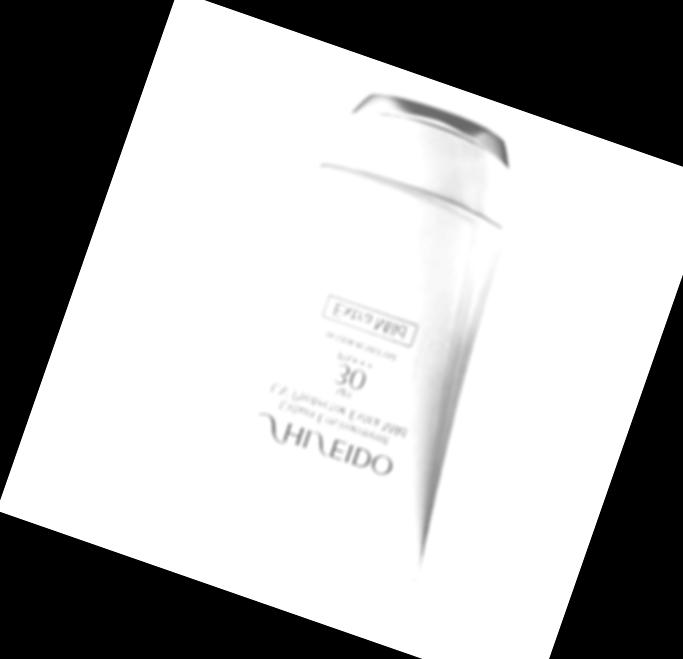cosmetic: (166, 62, 569, 589)
